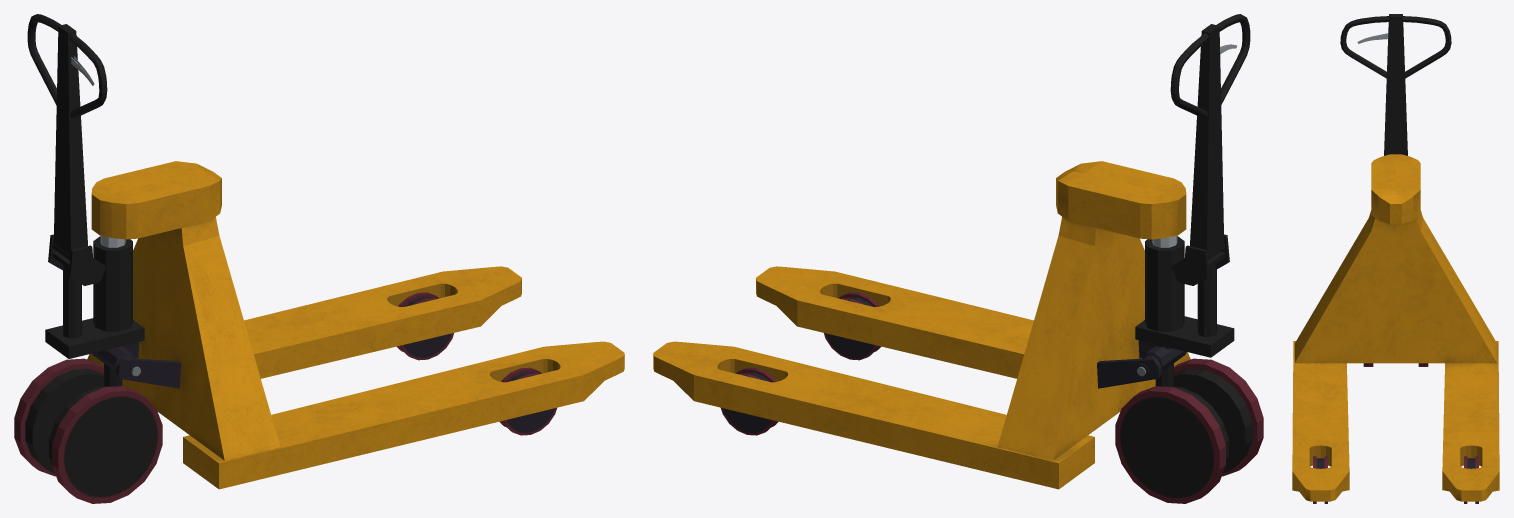
Rendered from pallet_jack.glb.
3 views of the same model, side by side, from view 1: azimuth 30°, elevation 25°; view 2: azimuth 150°, elevation 25°; view 3: azimuth 270°, elevation 25° (orthographic). The views are drawn at different scales.
Visible parts, largest first — view 1: aws_robomaker_warehouse_PalletJackB_01_visual-lib, aws_robomaker_warehouse_PalletJackB_01_visual-lib_1; view 2: aws_robomaker_warehouse_PalletJackB_01_visual-lib, aws_robomaker_warehouse_PalletJackB_01_visual-lib_1; view 3: aws_robomaker_warehouse_PalletJackB_01_visual-lib, aws_robomaker_warehouse_PalletJackB_01_visual-lib_1.
Boxes of the visible parts, x1=… form: aws_robomaker_warehouse_PalletJackB_01_visual-lib: x1=86, y1=161, x2=624, y2=489; aws_robomaker_warehouse_PalletJackB_01_visual-lib_1: x1=14, y1=14, x2=162, y2=503; aws_robomaker_warehouse_PalletJackB_01_visual-lib: x1=653, y1=161, x2=1191, y2=489; aws_robomaker_warehouse_PalletJackB_01_visual-lib_1: x1=1115, y1=14, x2=1263, y2=503; aws_robomaker_warehouse_PalletJackB_01_visual-lib: x1=1292, y1=154, x2=1499, y2=503; aws_robomaker_warehouse_PalletJackB_01_visual-lib_1: x1=1340, y1=14, x2=1451, y2=366.
Bounding box in the file's own units: 1.15 × 0.9642 × 0.5317.
2 materials, 2 textured.
